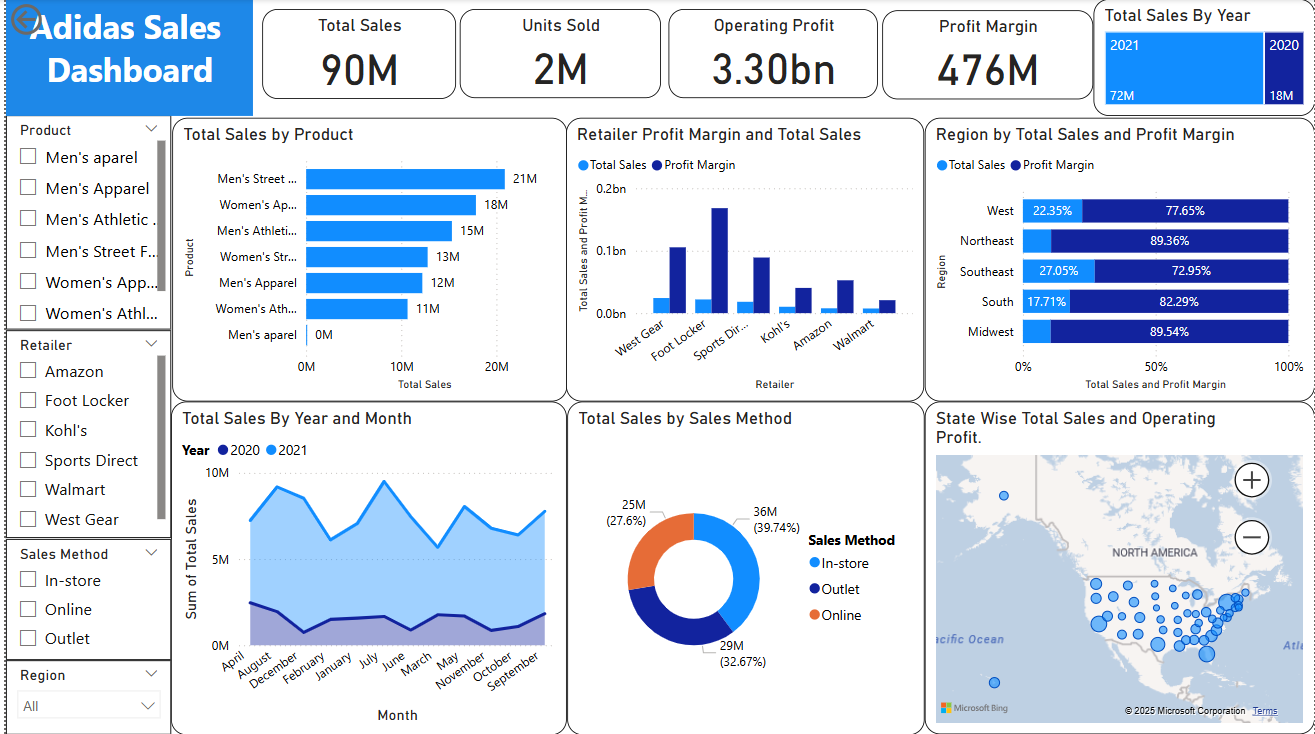

What the dashboard file says about the page in this screenshot:
{"tool":"powerbi","page":{"name":"Final dashboard","canvas":[1280,720],"ordinal":3},"visuals":[{"type":"card","title":"Total Sales","fields":{"Values":["Sum(adidas cleanedadidas.Total Sales)"]},"box":[250.3,9.5,189.5,88.2],"z":0},{"type":"card","title":"Units Sold","fields":{"Values":["adidas cleanedadidas.unit sold"]},"box":[443.4,9.5,196.7,87],"z":1000},{"type":"card","title":"Operating Profit","fields":{"Values":["Sum(adidas cleanedadidas.Operating Profit)"]},"box":[648.5,9.5,205,87],"z":2000},{"type":"card","title":"Profit Margin","fields":{"Values":["adidas cleanedadidas.profitsm"]},"box":[857.1,10.7,206.2,87],"z":3000},{"type":"slicer","fields":{"Values":["adidas cleanedadidas.Product"]},"box":[0,113.9,161.9,209.9],"z":4000},{"type":"slicer","fields":{"Values":["adidas cleanedadidas.Retailer"]},"box":[0,323.8,161.9,203.1],"z":5000},{"type":"slicer","fields":{"Values":["adidas cleanedadidas.Sales Method"]},"box":[732.8,134.5,144.1,127.6],"z":6000},{"type":"clusteredBarChart","title":"Total Sales by Product","fields":{"Category":["adidas cleanedadidas.Product"],"Y":["Sum(adidas cleanedadidas.Total Sales)"]},"box":[162.1,115.6,386.2,277.7],"z":7000},{"type":"clusteredColumnChart","title":"Retailer Profit Margin and Total Sales","fields":{"Category":["adidas cleanedadidas.Retailer"],"Y":["Sum(adidas cleanedadidas.Total Sales)","Sum(adidas cleanedadidas.Profit Margin)"]},"box":[548.3,115.6,350.5,277.7],"z":8000},{"type":"hundredPercentStackedBarChart","title":"Region by Total Sales and Profit Margin","fields":{"Category":["adidas cleanedadidas.Region"],"Y":["Sum(adidas cleanedadidas.Total Sales)","Sum(adidas cleanedadidas.Profit Margin)"]},"box":[898.8,116.2,381.5,277.6],"z":9000},{"type":"donutChart","title":"Total Sales by Sales Method","fields":{"Y":["Sum(adidas cleanedadidas.Total Sales)"],"Category":["adidas cleanedadidas.Sales Method"]},"box":[548.9,393.8,349.9,326.6],"z":10000},{"type":"stackedAreaChart","title":"Total Sales By Year and Month","fields":{"Category":["adidas cleanedadidas.Month","adidas cleanedadidas.Year"],"Y":["Sum(adidas cleanedadidas.Total Sales)"],"Series":["adidas cleanedadidas.Year"]},"box":[161.9,393.8,387,326.6],"z":11000},{"type":"textbox","box":[0,0,242,114.4],"z":13000},{"type":"slicer","fields":{"Values":["adidas cleanedadidas.Sales Method"]},"box":[0,528.3,161.9,118],"z":14000},{"type":"slicer","fields":{"Values":["adidas cleanedadidas.Region"]},"box":[0,646.3,161.9,72.7],"z":15000},{"type":"map","title":" State Wise Total Sales and Operating Profit.","fields":{"Size":["Sum(adidas cleanedadidas.Total Sales)"],"Category":["adidas cleanedadidas.State"]},"box":[898.8,393.8,381.5,325.2],"z":16000},{"type":"actionButton","box":[0,0,100,40],"z":17000},{"type":"treemap","title":"Total Sales By Year","fields":{"Group":["adidas cleanedadidas.Year"],"Values":["Sum(adidas cleanedadidas.Total Sales)"]},"box":[1063.3,0,216.9,114.4],"z":18000}]}

Visuals, with their boxes in screenshot pixels (x1, y1, x2, y2), scaled from the page's 1280x720 canvas onto the 1315x734 screenshot:
"Total Sales" card: {"x1": 257, "y1": 10, "x2": 452, "y2": 100}
"Units Sold" card: {"x1": 456, "y1": 10, "x2": 658, "y2": 98}
"Operating Profit" card: {"x1": 666, "y1": 10, "x2": 877, "y2": 98}
"Profit Margin" card: {"x1": 881, "y1": 11, "x2": 1092, "y2": 100}
slicer - adidas cleanedadidas.Product: {"x1": 0, "y1": 116, "x2": 166, "y2": 330}
slicer - adidas cleanedadidas.Retailer: {"x1": 0, "y1": 330, "x2": 166, "y2": 537}
slicer - adidas cleanedadidas.Sales Method: {"x1": 753, "y1": 137, "x2": 901, "y2": 267}
"Total Sales by Product" clusteredBarChart: {"x1": 167, "y1": 118, "x2": 563, "y2": 401}
"Retailer Profit Margin and Total Sales" clusteredColumnChart: {"x1": 563, "y1": 118, "x2": 923, "y2": 401}
"Region by Total Sales and Profit Margin" hundredPercentStackedBarChart: {"x1": 923, "y1": 118, "x2": 1314, "y2": 401}
"Total Sales by Sales Method" donutChart: {"x1": 564, "y1": 401, "x2": 923, "y2": 733}
"Total Sales By Year and Month" stackedAreaChart: {"x1": 166, "y1": 401, "x2": 564, "y2": 733}
textbox: {"x1": 0, "y1": 0, "x2": 249, "y2": 117}
slicer - adidas cleanedadidas.Sales Method: {"x1": 0, "y1": 539, "x2": 166, "y2": 659}
slicer - adidas cleanedadidas.Region: {"x1": 0, "y1": 659, "x2": 166, "y2": 733}
" State Wise Total Sales and Operating Profit." map: {"x1": 923, "y1": 401, "x2": 1314, "y2": 733}
actionButton: {"x1": 0, "y1": 0, "x2": 103, "y2": 41}
"Total Sales By Year" treemap: {"x1": 1092, "y1": 0, "x2": 1314, "y2": 117}
